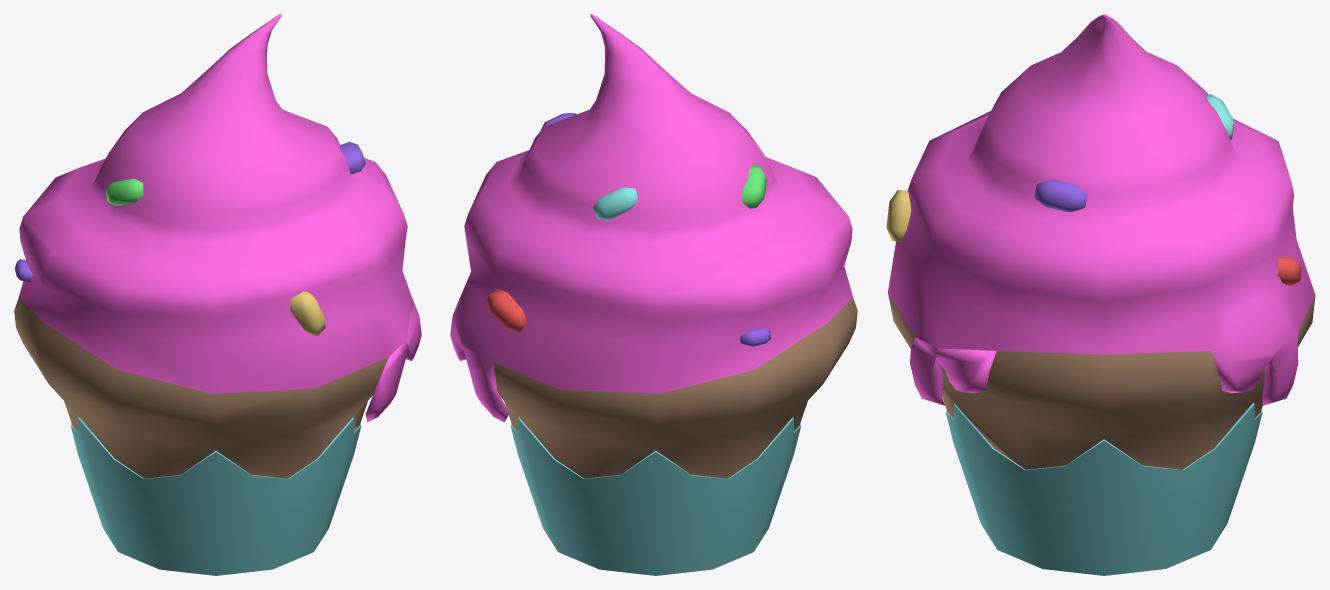
The model's file is props_cupcake.fbx.
3 renders of one model, left to right at view 1: azimuth 30°, elevation 25°; view 2: azimuth 150°, elevation 25°; view 3: azimuth 270°, elevation 25°, orthographic. The views are drawn at different scales.
Parts seen in each view (by area): view 1: cupcake; view 2: cupcake; view 3: cupcake.
Boxes of the visible parts, x1,y1,x2,y2 form: cupcake: (14,14,421,575); cupcake: (450,14,857,575); cupcake: (886,14,1315,575).
Bounding box in the file's own units: 0.3863 × 0.3721 × 0.5199.
